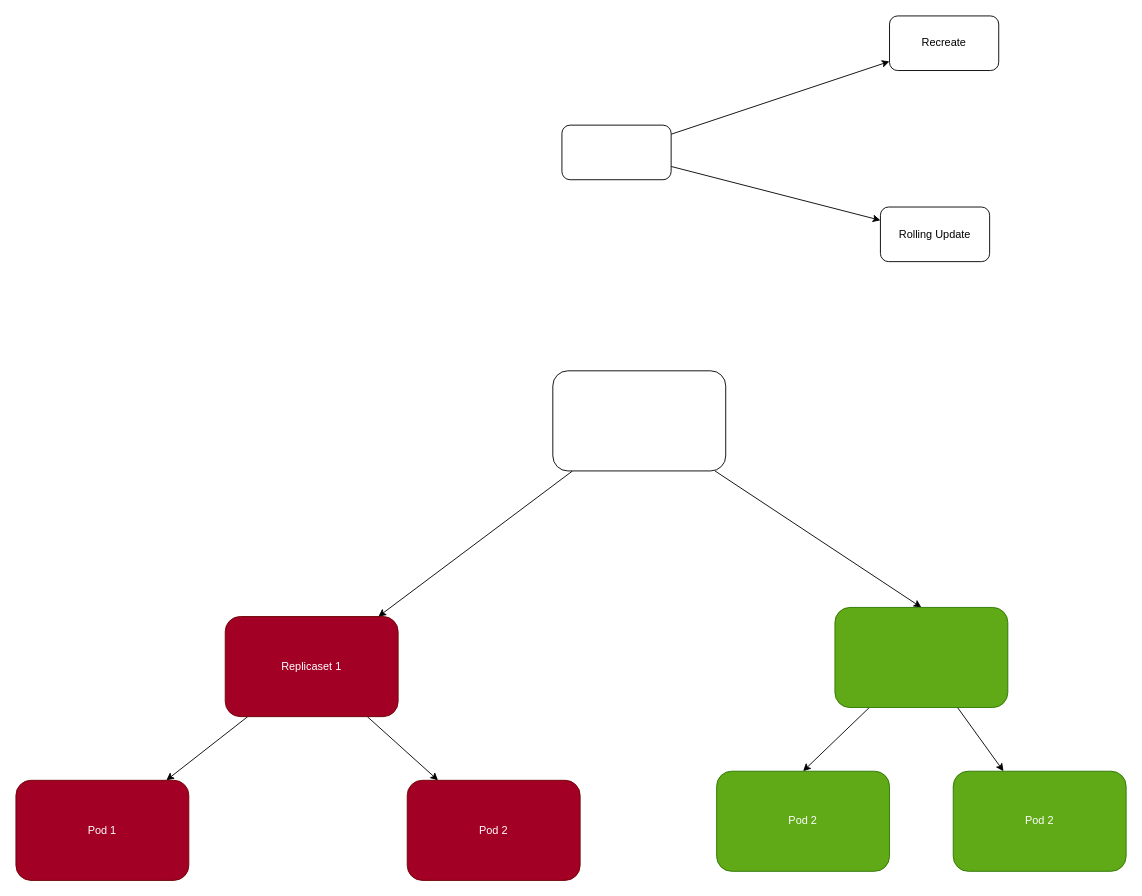
The diagram is 1142 pixels wide and 896 high, and some of its shapes have lost their labels. The shapes that lost their labels are listed below. From the top down, each one's centre as x and y in pixels, then its label:
At pixel 616 152: "deployment strategy".
At pixel 639 420: "Deployment".
At pixel 921 657: "Replicaset 2".
